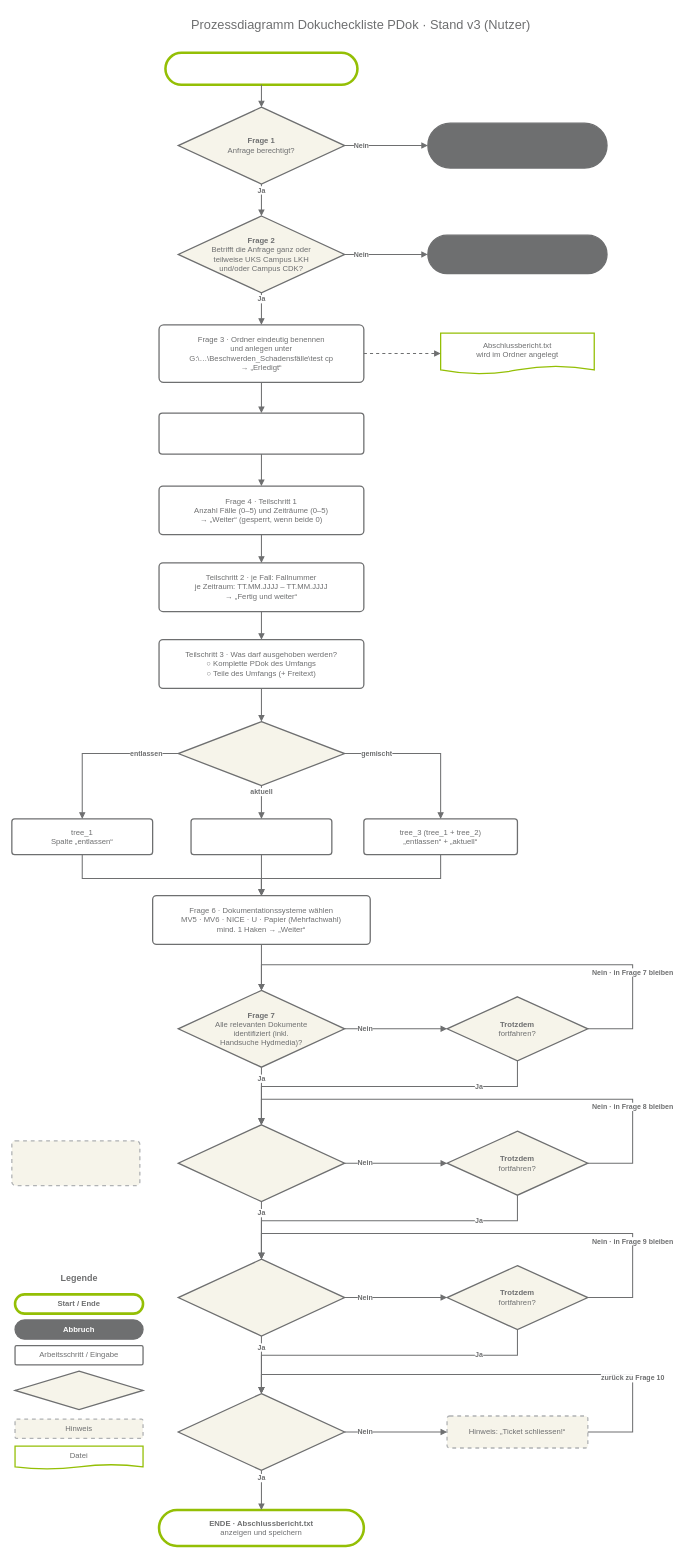
The diagram is 684 pixels wide and 1558 high, and some of its shapes have lost their labels. Here are the shapes that lost their labels. From the top down, the centre of each, then its label:
At (261,68): "Anfrage zur Aushebung der PDok".
At (517,145): "ABBRUCH Auf Antwort des Anfragegebers warten bzw. Rücksprache mit DL/MM".
At (517,254): "ABBRUCH Stabstelle Pflegeinformatik des UKS ist nicht zuständig".
At (261,433): "Ticket als Störung anlegen und sich selbst zuweisen → „Erledigt“".
At (261,753): "Frage 5 Welcher Fallstatus?".
At (261,836): "tree_2 Spalte „aktuell“".
At (75,1163): "Kategorien: Pflegeanamnese … (weitere tba)".
At (261,1163): "Frage 8 Alle Dokumente einer Kategorie zugeordnet?".
At (261,1297): "Frage 9 Export über Livelink opentext an Anfragegeber ausgeführt?".
At (78,1390): "Entscheidung (Ja/Nein)".
At (261,1432): "Frage 10 Wurde das Ticket geschlossen?".
